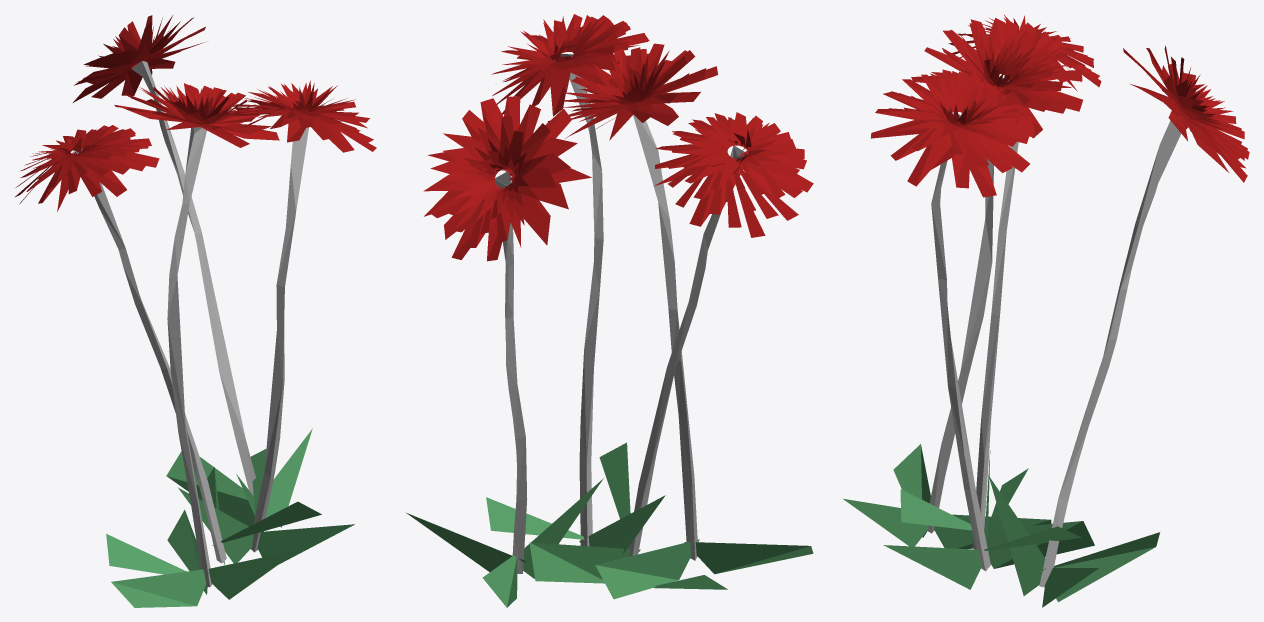
Rendered from DahliaRed.fbx.
3 views of the same model, side by side, from view 1: azimuth 30°, elevation 25°; view 2: azimuth 150°, elevation 25°; view 3: azimuth 270°, elevation 25° (orthographic). The views are drawn at different scales.
Parts seen in each view (by area): view 1: dahliaRed1Flower, dahliaRed1Main, dahliaRed1Leaf; view 2: dahliaRed1Flower, dahliaRed1Leaf, dahliaRed1Main; view 3: dahliaRed1Flower, dahliaRed1Main, dahliaRed1Leaf.
Boxes of the visible parts, x1,y1,x2,y2 form: dahliaRed1Flower: [15, 15, 376, 212]; dahliaRed1Main: [73, 61, 308, 587]; dahliaRed1Leaf: [106, 428, 354, 607]; dahliaRed1Flower: [423, 14, 813, 261]; dahliaRed1Leaf: [406, 442, 813, 607]; dahliaRed1Main: [495, 54, 744, 573]; dahliaRed1Flower: [870, 15, 1249, 197]; dahliaRed1Main: [927, 76, 1181, 587]; dahliaRed1Leaf: [843, 444, 1160, 607].
Bounding box in the file's own units: 0.8478 × 1.23 × 0.8638.
